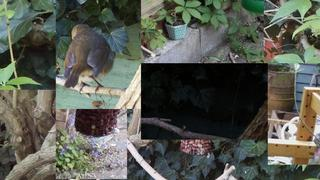robin: (63, 24, 117, 95)
